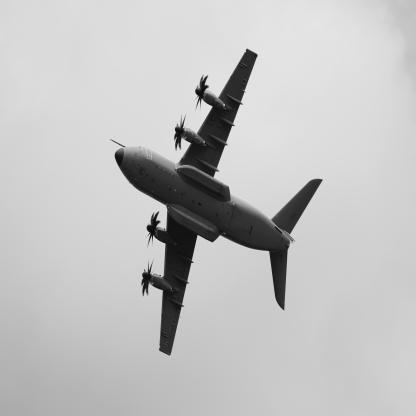A400M: (111, 49, 324, 357)
